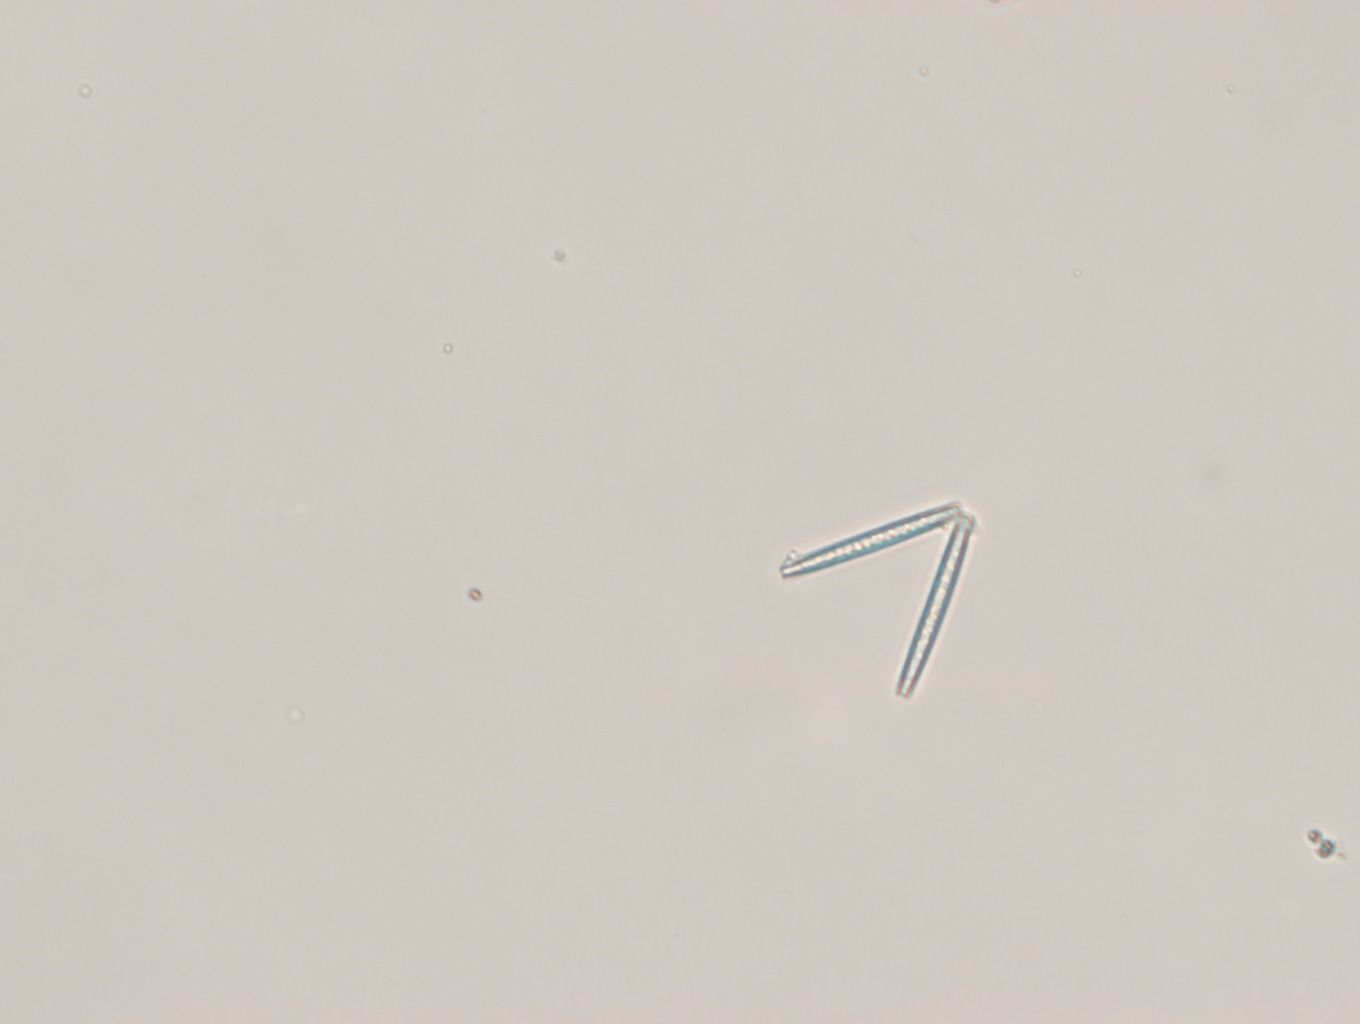thalassionema nitzschioides: (772, 490, 983, 708)
